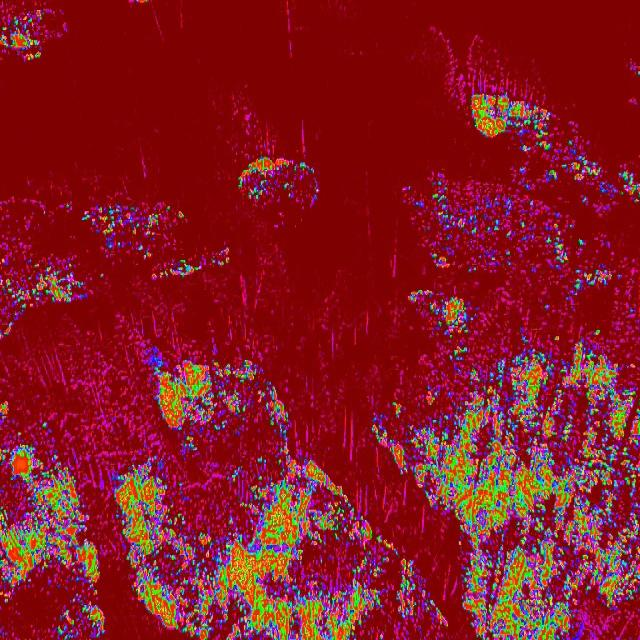fire: (390, 162, 640, 640), (0, 339, 289, 640), (290, 460, 391, 640), (80, 198, 232, 286), (0, 252, 94, 332), (235, 149, 322, 215), (0, 0, 71, 66), (468, 90, 554, 138), (366, 413, 390, 458)
